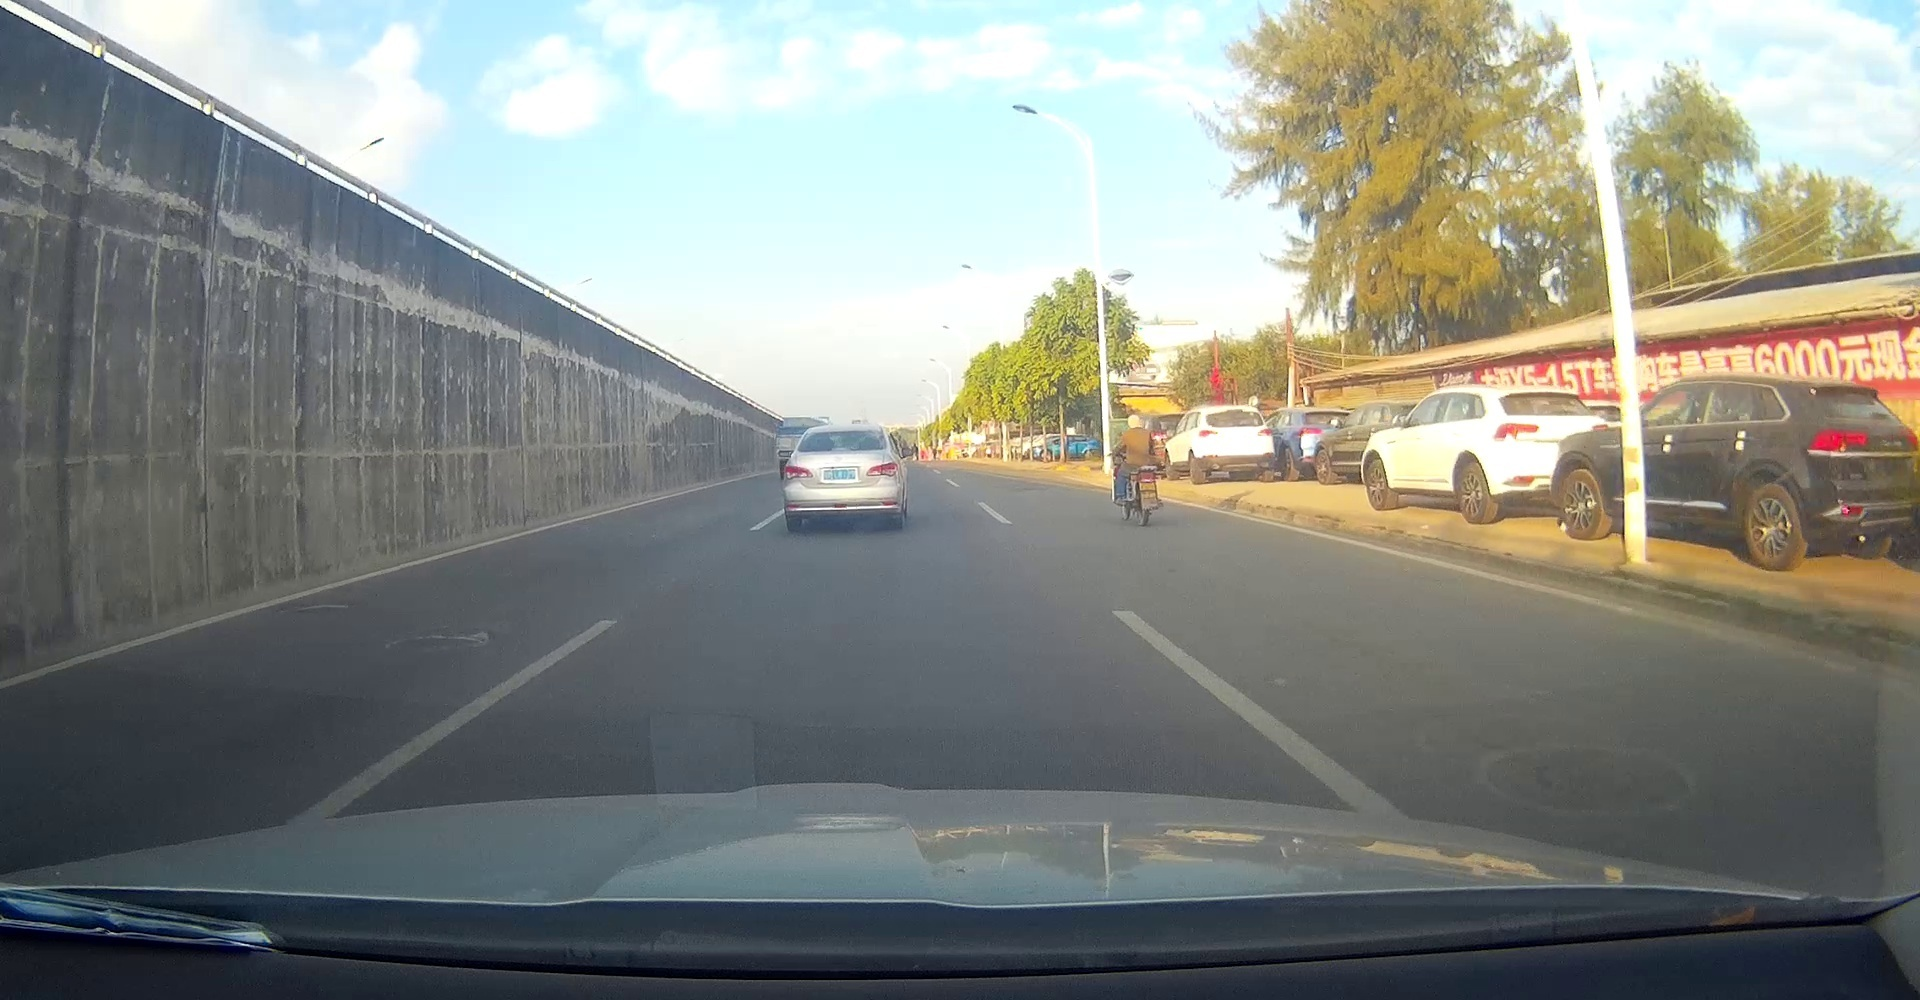L_light: (1808, 428, 1867, 453), (1493, 423, 1540, 442), (783, 464, 814, 480), (1197, 430, 1218, 437)
R_light: (866, 462, 898, 477), (1898, 428, 1917, 452), (1257, 428, 1272, 437), (1592, 424, 1609, 431)
T_light: (1843, 386, 1865, 391), (1539, 392, 1558, 397), (830, 447, 850, 451), (1225, 409, 1243, 412)
day-no: (1803, 383, 1920, 571), (1490, 386, 1610, 525), (783, 425, 899, 530), (1195, 405, 1275, 485)
